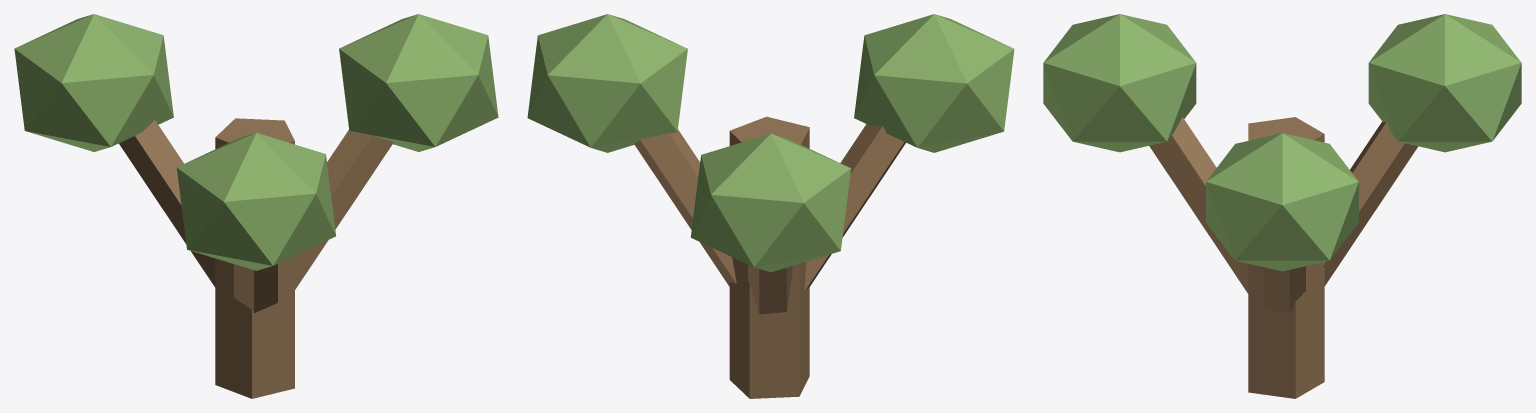
File: plant_berry_bush_growing.glb
3 views of the same model, side by side, from view 1: azimuth 30°, elevation 25°; view 2: azimuth 150°, elevation 25°; view 3: azimuth 270°, elevation 25° (orthographic).
Visible parts, largest first — view 1: plant_berry_bush_growing; view 2: plant_berry_bush_growing; view 3: plant_berry_bush_growing.
Boxes of the visible parts, x1,y1,x2,y2 form: plant_berry_bush_growing: [14, 14, 498, 398]; plant_berry_bush_growing: [527, 14, 1014, 398]; plant_berry_bush_growing: [1043, 14, 1521, 398].
Size of the model in its own units: 0.4712 by 0.3858 by 0.5092.
